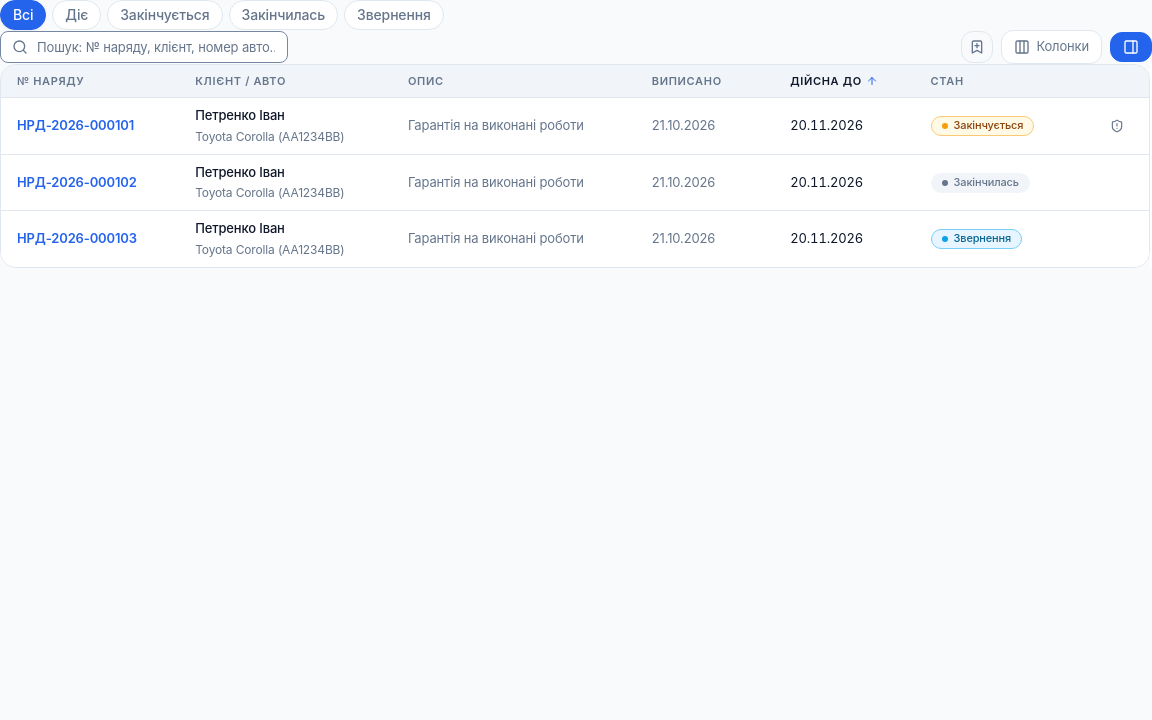
Вкладка «Гарантії» › вікно звернення: наряди клієнта без скасованих → POST claim → список перечитано
The image size is (1152, 720).
Expected: the link "НРД-2026-000101" is shown, [17,117,134,133]
Click the button named "Звернення". click: (1117, 126)
box: [1101,110,1133,142]
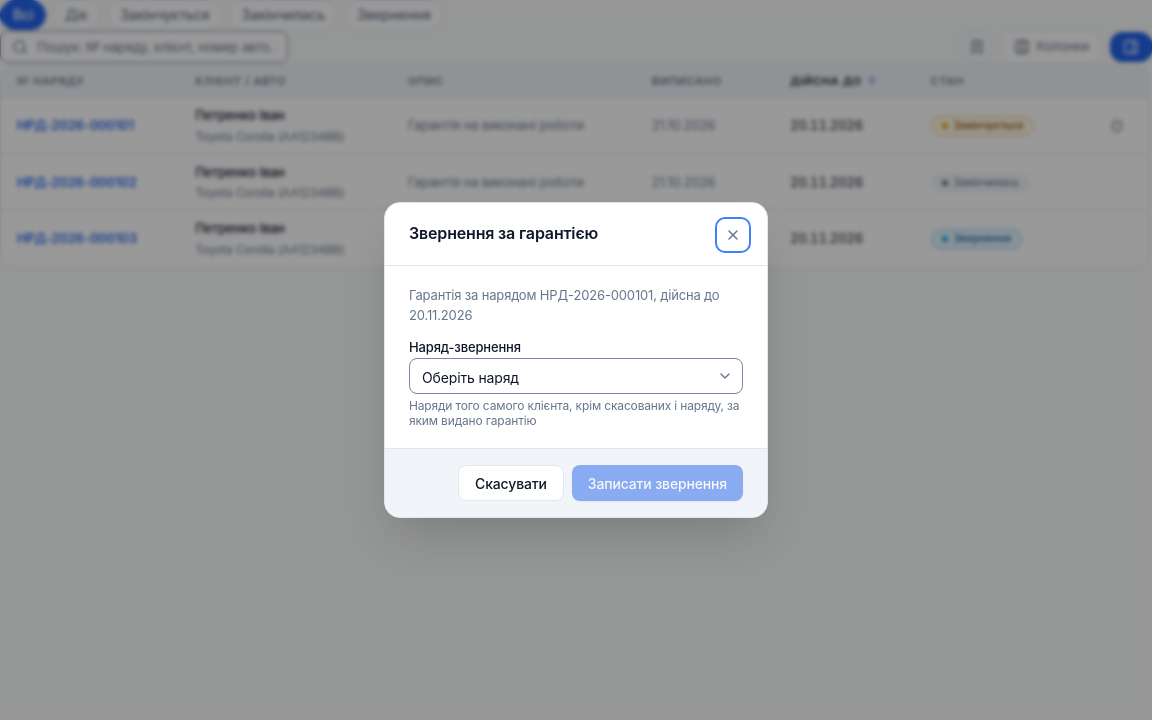
Select "НРД-2026-000200 · Чернетка · Toyota Corolla" in the dropdown labelled "Наряд-звернення". click: (576, 376)
box: [409,358,743,394]
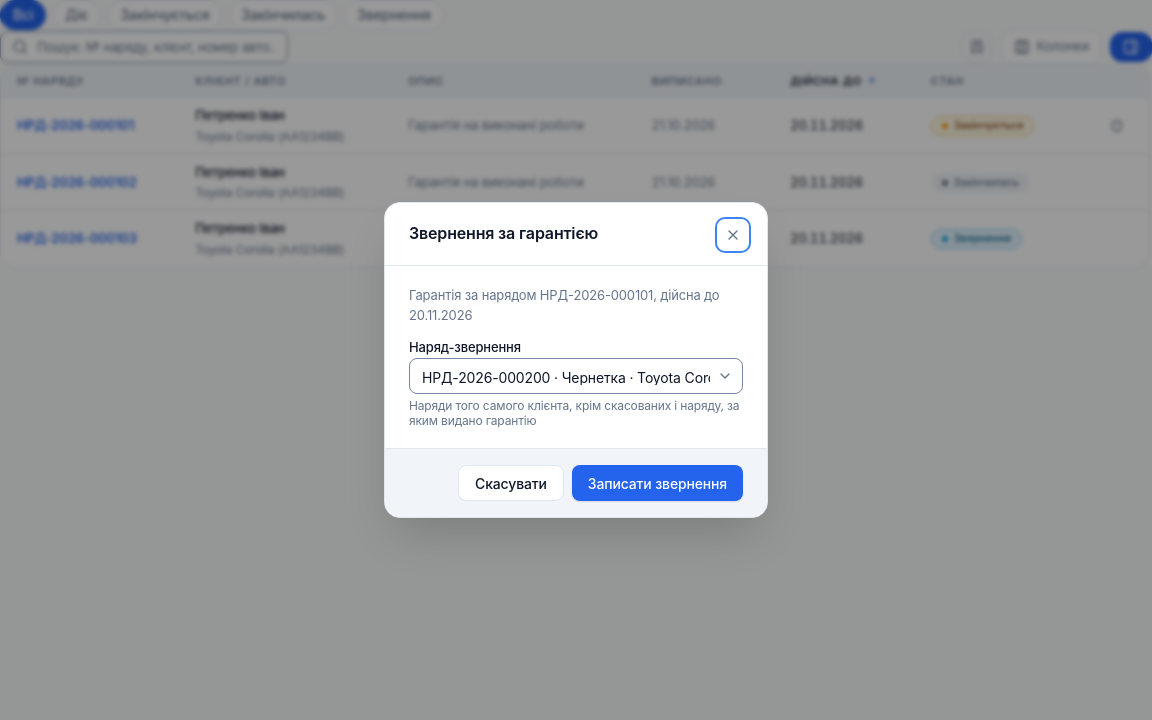
Click the button "Записати звернення". click: (657, 483)
box: [572,465,743,501]
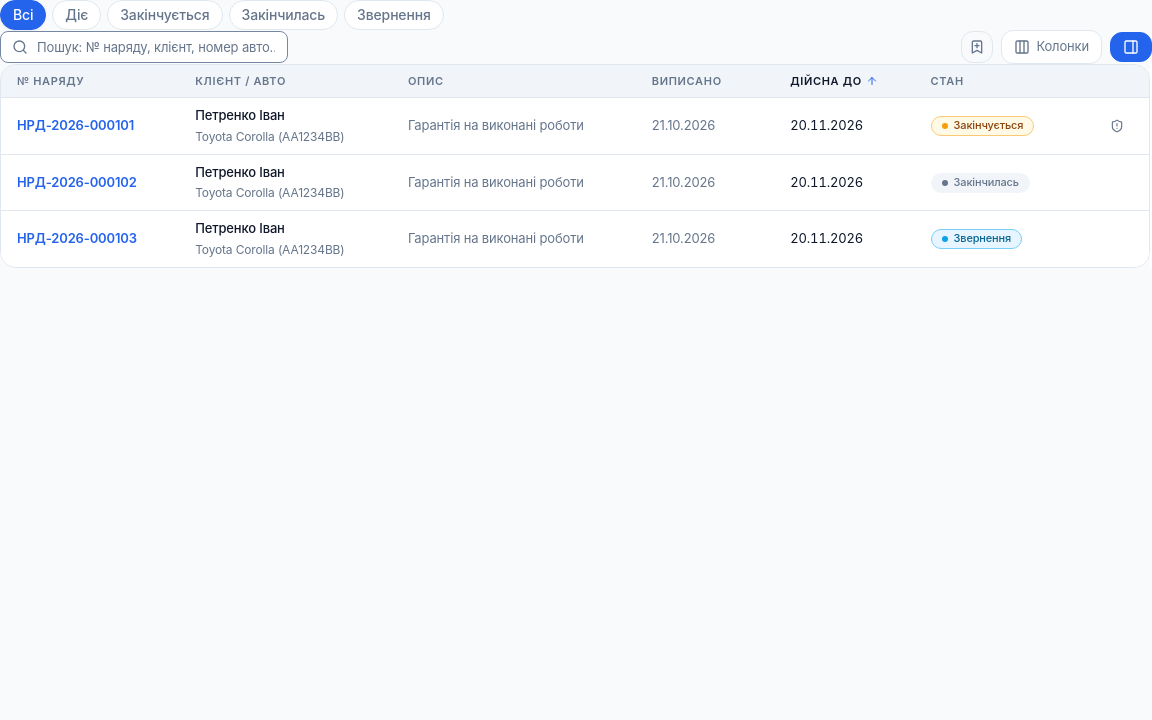
Now the heading "Звернення за гарантією" is gone
